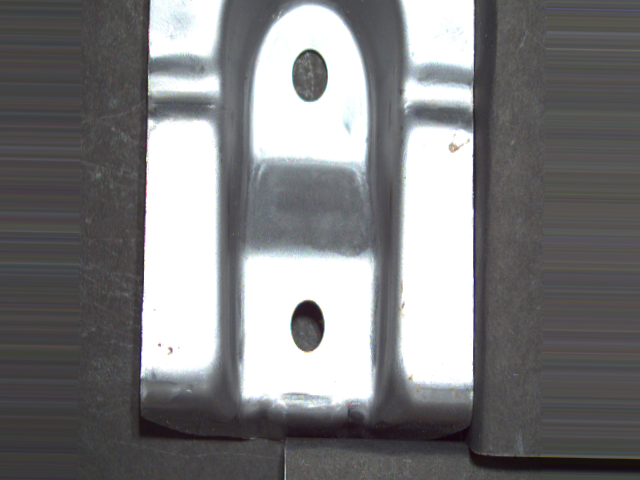defect: (288, 47, 329, 106)
